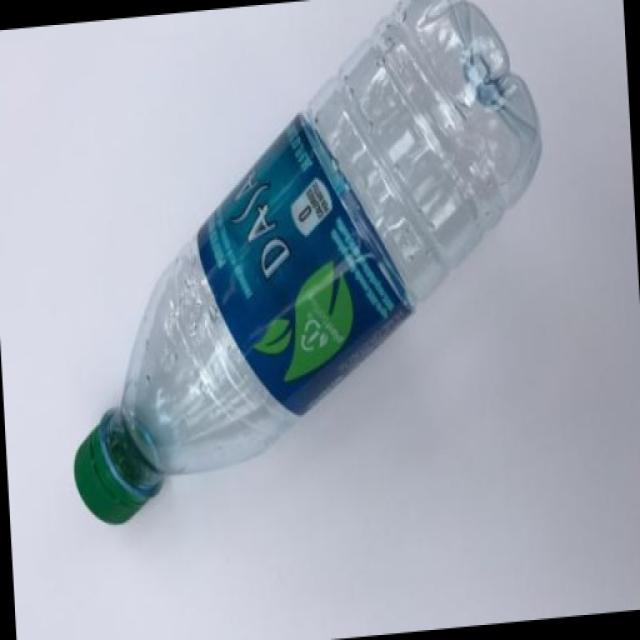plastico: (45, 16, 624, 554)
